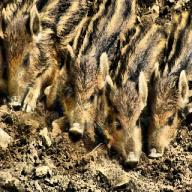boar: (0, 0, 191, 170)
